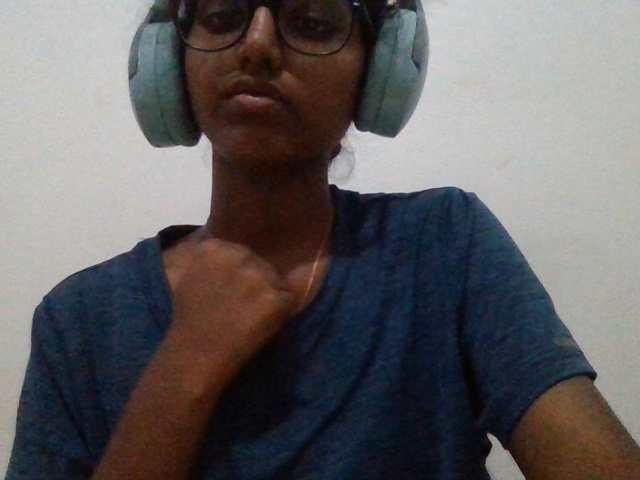Sorry: (129, 217, 305, 428)
